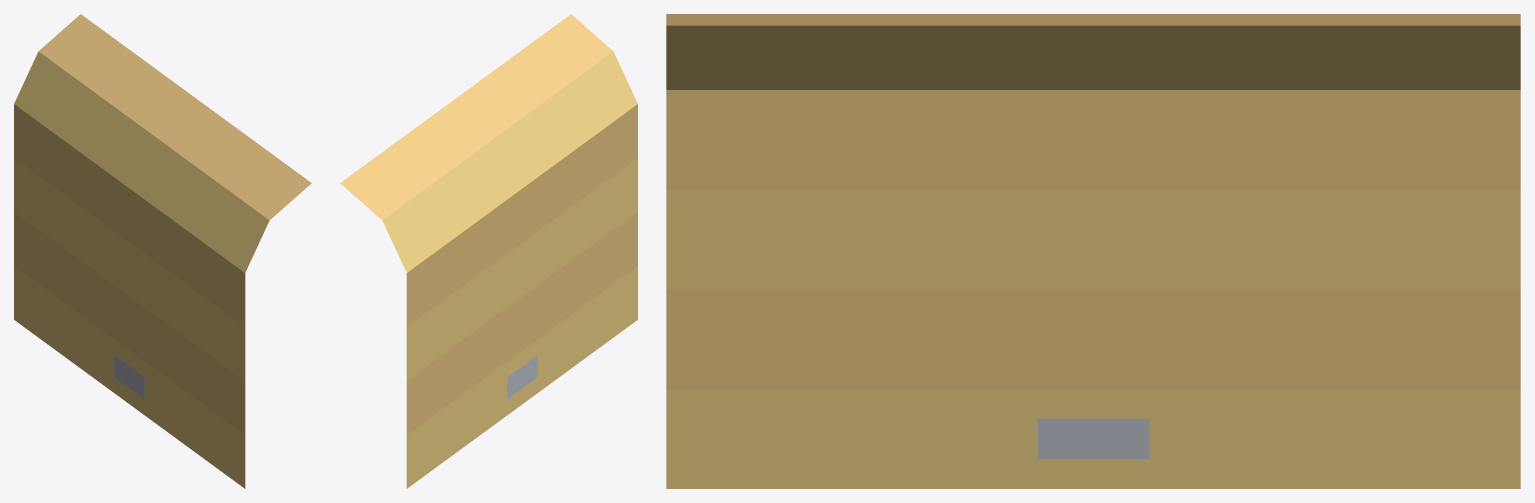
The model's file is door-wide-half.fbx.
3 views of the same model, side by side, from view 1: azimuth 30°, elevation 25°; view 2: azimuth 150°, elevation 25°; view 3: azimuth 270°, elevation 25° (orthographic). The views are drawn at different scales.
Parts seen in each view (by area): view 1: door-wide-half; view 2: door-wide-half; view 3: door-wide-half.
Boxes of the visible parts, x1,y1,x2,y2 form: door-wide-half: (14,14,311,488); door-wide-half: (340,14,637,488); door-wide-half: (666,14,1520,488).
Size of the model in its own units: 30 by 124 by 180.
